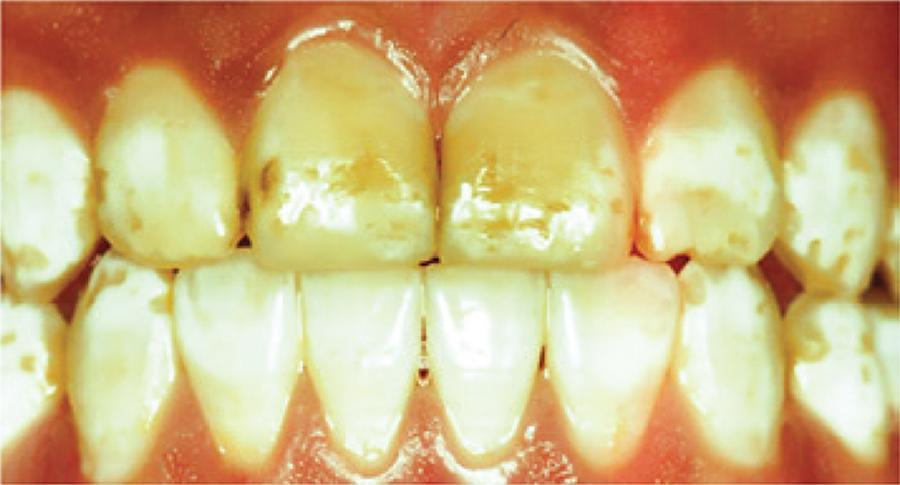LL1BC_mdecay: (783, 298, 894, 477)
LLCI_healthy: (423, 263, 548, 472)
LLC_mdecay: (674, 263, 786, 471)
LLLI_healthy: (550, 269, 679, 473)
LR1BC_mdecay: (1, 298, 69, 482)
LRCI_healthy: (303, 266, 422, 477)
LRC_mdecay: (64, 256, 172, 482)
LRLI_healthy: (173, 268, 302, 469)
ULCI_mdecay: (438, 49, 635, 267)
ULC_mdecay: (783, 83, 887, 299)
ULLI_mdecay: (637, 63, 778, 259)
URCI_mdecay: (248, 34, 437, 267)
URC_mdecay: (1, 90, 92, 299)
URLI_mdecay: (91, 61, 246, 260)
